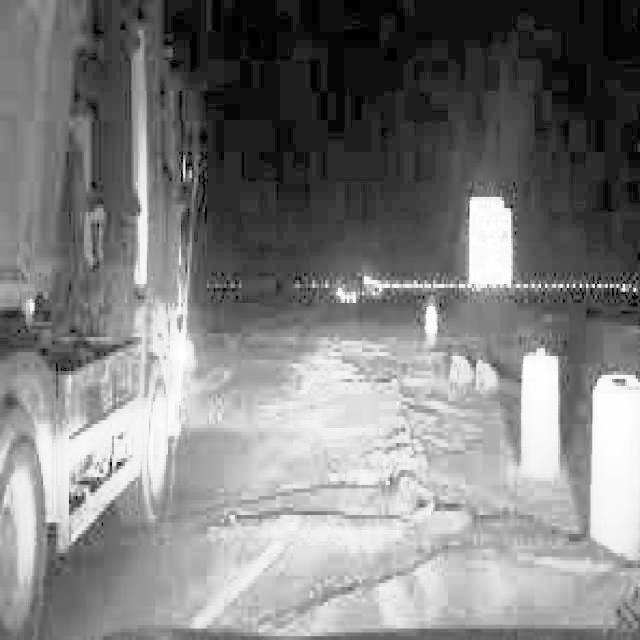Truck: (0, 0, 203, 636)
